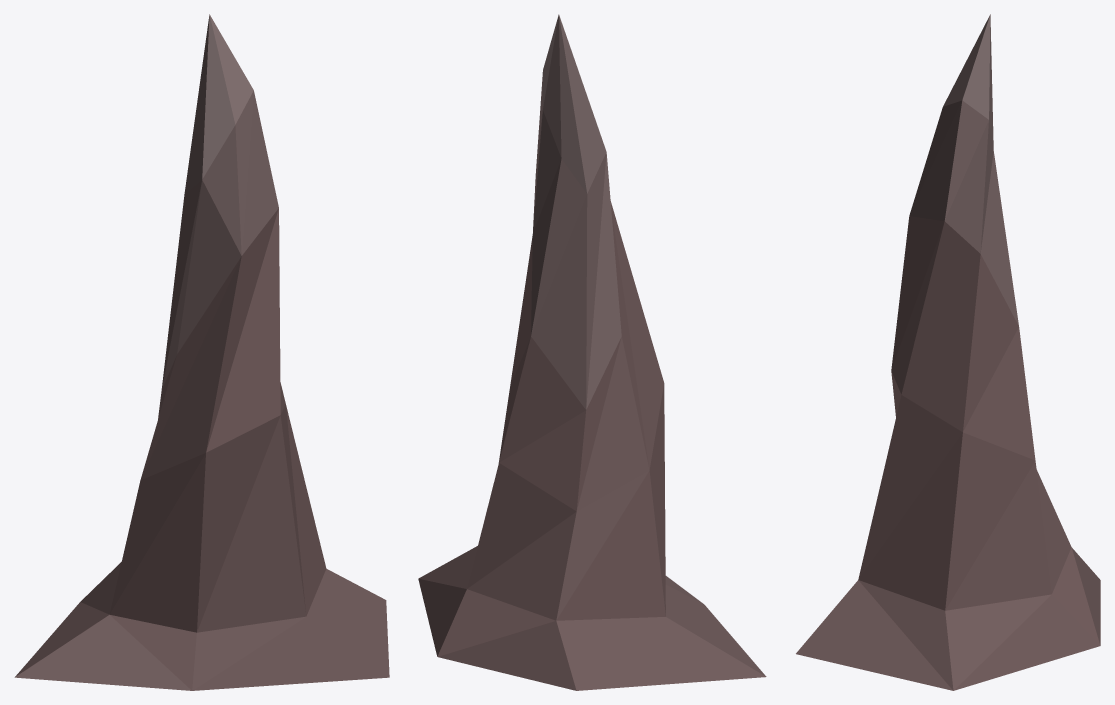
Rendered from Obj_IceShardMesh.FBX.
3 renders of one model, left to right at view 1: azimuth 30°, elevation 25°; view 2: azimuth 150°, elevation 25°; view 3: azimuth 270°, elevation 25°, orthographic. The views are drawn at different scales.
Visible parts, largest first — view 1: IceShard01; view 2: IceShard01; view 3: IceShard01.
Part boxes in pixels (x1,y1,x2,y2): IceShard01: [14, 14, 389, 690]; IceShard01: [418, 14, 766, 690]; IceShard01: [796, 14, 1100, 690].
Bounding box in the file's own units: 35.35 × 57.59 × 26.48.
1 material, 1 textured.
